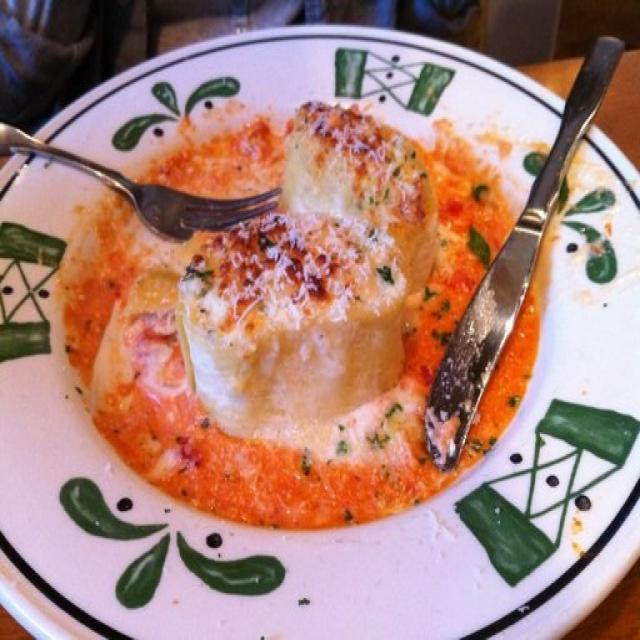Lasagna: (80, 107, 446, 419)
